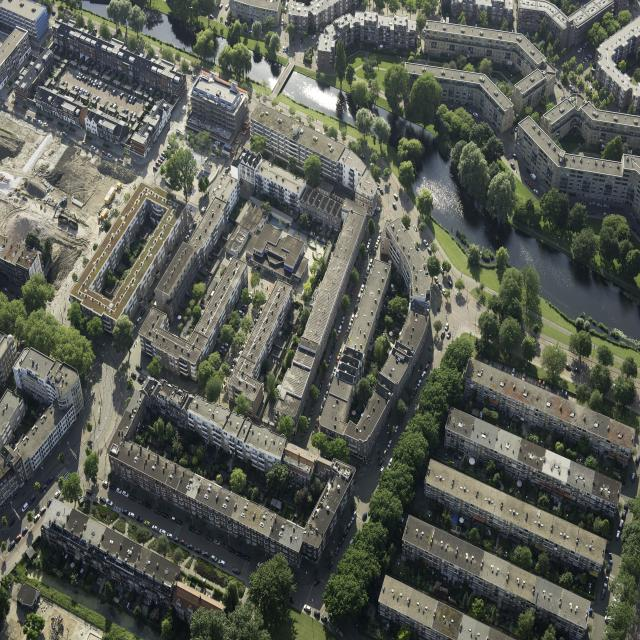large-vehicle: (180, 104, 187, 114)
small-vehicle: (604, 613, 616, 626), (7, 540, 16, 551), (395, 514, 404, 524), (584, 605, 593, 615), (610, 602, 620, 611), (21, 502, 29, 513), (28, 494, 36, 505), (242, 553, 251, 562), (303, 604, 312, 613), (39, 483, 47, 493), (46, 475, 54, 485), (336, 628, 344, 638), (601, 544, 609, 554), (582, 40, 590, 50), (618, 518, 624, 531), (348, 538, 355, 549), (412, 406, 419, 417), (387, 457, 394, 468), (159, 528, 167, 537), (108, 483, 117, 491), (106, 498, 114, 507), (218, 559, 226, 568), (227, 546, 236, 554), (257, 561, 265, 570), (313, 578, 321, 587), (313, 609, 321, 618), (320, 614, 328, 623), (603, 576, 609, 588), (600, 588, 606, 600), (612, 597, 620, 606), (615, 529, 621, 541), (623, 499, 629, 511), (15, 533, 22, 543), (351, 511, 358, 521), (338, 537, 345, 547), (361, 511, 368, 521), (412, 386, 419, 396), (382, 447, 389, 457), (420, 370, 427, 380), (521, 371, 527, 382), (621, 509, 627, 520), (232, 567, 240, 575), (166, 532, 174, 540), (122, 490, 130, 498), (129, 494, 137, 502), (99, 496, 107, 504), (121, 508, 129, 516), (128, 511, 136, 519), (161, 511, 169, 519), (153, 507, 161, 515), (144, 502, 152, 510), (233, 357, 241, 365), (218, 349, 226, 357), (194, 546, 202, 554), (202, 550, 210, 558), (323, 454, 331, 462), (287, 596, 295, 604), (509, 162, 517, 170), (573, 366, 581, 374), (54, 489, 61, 498), (47, 497, 54, 506), (8, 518, 15, 527), (21, 526, 28, 535), (33, 513, 40, 522), (140, 307, 147, 316), (629, 212, 636, 221), (438, 265, 445, 274), (441, 288, 448, 297), (342, 529, 349, 538), (530, 172, 537, 181), (630, 224, 637, 233), (321, 397, 327, 407), (347, 520, 353, 530), (329, 373, 335, 383), (408, 395, 414, 405), (387, 439, 393, 449), (378, 457, 384, 467), (440, 330, 446, 340), (630, 472, 636, 482), (86, 488, 93, 496), (137, 498, 144, 506), (136, 515, 143, 523), (144, 519, 151, 527), (169, 515, 176, 523), (211, 555, 218, 563), (236, 315, 243, 323), (206, 534, 213, 542), (195, 528, 202, 536), (238, 309, 245, 317), (220, 345, 227, 353), (188, 525, 195, 533), (186, 543, 194, 550), (236, 550, 243, 558), (180, 539, 188, 546), (369, 162, 376, 170), (472, 111, 479, 119), (491, 129, 498, 137), (525, 167, 532, 175), (573, 89, 580, 97), (608, 553, 613, 564), (511, 367, 516, 378), (563, 390, 568, 401), (40, 505, 46, 514), (337, 325, 343, 334), (327, 561, 333, 570), (416, 379, 422, 388), (314, 419, 320, 428), (326, 383, 332, 392), (334, 547, 340, 556), (433, 275, 439, 284), (446, 330, 452, 339), (401, 409, 407, 418), (404, 425, 410, 434), (379, 466, 385, 475), (375, 181, 381, 190), (320, 376, 326, 385), (324, 363, 330, 372), (499, 363, 504, 373), (541, 380, 546, 390), (606, 564, 611, 574), (552, 386, 557, 396), (611, 382, 616, 392), (152, 525, 159, 532), (135, 364, 142, 371), (137, 376, 144, 383), (149, 372, 156, 379), (102, 480, 109, 487), (173, 536, 180, 543), (117, 157, 124, 164), (176, 519, 183, 526), (246, 294, 253, 301), (214, 539, 221, 546), (241, 303, 248, 310), (222, 342, 229, 349), (221, 542, 228, 549), (330, 457, 337, 464), (471, 120, 478, 127), (509, 129, 516, 136), (511, 152, 518, 159), (565, 363, 572, 370), (552, 348, 559, 355), (92, 79, 98, 87), (97, 81, 103, 89), (148, 295, 154, 303), (131, 96, 137, 104), (116, 487, 122, 495), (136, 316, 142, 324), (153, 300, 159, 308), (102, 84, 108, 92), (131, 324, 137, 332), (184, 234, 190, 242), (200, 206, 206, 214), (224, 166, 230, 174), (398, 417, 404, 425), (327, 355, 333, 363), (437, 282, 443, 290), (447, 279, 453, 287), (91, 473, 97, 481), (424, 363, 430, 371), (487, 124, 493, 132), (533, 188, 539, 196), (427, 246, 433, 254), (552, 77, 558, 85), (423, 239, 429, 247), (392, 202, 398, 210), (568, 84, 574, 92), (635, 454, 640, 463), (350, 287, 355, 296), (353, 304, 358, 313), (309, 407, 314, 416), (347, 296, 352, 305), (319, 406, 324, 415), (324, 390, 329, 399), (314, 393, 319, 402), (311, 430, 316, 439), (365, 266, 370, 275), (368, 258, 373, 267), (444, 322, 449, 331), (394, 425, 399, 434), (428, 355, 433, 364), (368, 247, 373, 256), (365, 244, 370, 253), (488, 359, 493, 368), (317, 384, 322, 393), (78, 87, 84, 94), (2, 287, 9, 293), (21, 339, 27, 346), (16, 351, 23, 357), (131, 372, 137, 379), (159, 377, 165, 384), (126, 162, 133, 168), (161, 151, 167, 158), (187, 67, 193, 74), (248, 290, 254, 297), (230, 328, 236, 335), (228, 368, 235, 374), (240, 306, 246, 313), (228, 332, 234, 339), (212, 363, 218, 370), (530, 338, 537, 344), (420, 254, 426, 261), (287, 577, 293, 584), (360, 153, 366, 160), (460, 106, 467, 112), (537, 109, 543, 116), (483, 120, 489, 127), (514, 125, 520, 132), (537, 120, 543, 127), (524, 178, 530, 185), (528, 183, 534, 190), (542, 105, 548, 112), (585, 55, 591, 62), (587, 53, 593, 60), (393, 193, 399, 200), (557, 82, 563, 89), (589, 201, 596, 207), (577, 47, 583, 54), (596, 202, 603, 208), (603, 203, 610, 209), (581, 208, 588, 214), (610, 213, 617, 219), (338, 348, 343, 356), (360, 284, 365, 292), (356, 294, 361, 302), (350, 314, 355, 322), (347, 322, 352, 330), (345, 329, 350, 337), (336, 356, 341, 364), (335, 333, 340, 341), (379, 187, 384, 195), (332, 367, 337, 375), (376, 235, 381, 243), (374, 241, 379, 249), (372, 248, 377, 256), (367, 238, 372, 246), (378, 229, 383, 237), (538, 379, 542, 389), (560, 389, 564, 399), (549, 384, 553, 394), (75, 87, 81, 93), (37, 119, 43, 125), (43, 122, 49, 128), (60, 80, 66, 86), (15, 294, 21, 300), (81, 140, 87, 146), (62, 131, 68, 137), (101, 150, 107, 156), (155, 161, 161, 167), (157, 158, 163, 164), (159, 155, 165, 161), (234, 319, 240, 325), (260, 305, 266, 311), (245, 298, 251, 304), (241, 344, 247, 350), (231, 364, 237, 370), (299, 120, 305, 126), (315, 128, 321, 134), (322, 132, 328, 138), (3, 103, 9, 109), (467, 109, 473, 115), (478, 353, 482, 362), (583, 57, 589, 63), (589, 52, 595, 58), (548, 101, 554, 107), (617, 206, 623, 212), (603, 212, 609, 218), (76, 72, 81, 79), (79, 73, 84, 80), (87, 78, 92, 85), (126, 95, 131, 102), (129, 96, 134, 103), (124, 108, 129, 115), (129, 111, 134, 118), (152, 289, 157, 296), (153, 165, 158, 172), (233, 322, 238, 329), (224, 3, 229, 10), (217, 355, 222, 362), (90, 78, 95, 85), (579, 200, 586, 205), (610, 205, 617, 210), (565, 206, 572, 211), (341, 316, 345, 324), (345, 304, 349, 312), (331, 345, 335, 353), (359, 262, 363, 270), (307, 417, 311, 425), (304, 425, 308, 433), (363, 276, 367, 284), (33, 117, 38, 123), (71, 85, 76, 91), (86, 91, 91, 97), (83, 76, 88, 82), (95, 81, 100, 87), (95, 96, 100, 102), (109, 102, 114, 108), (112, 103, 117, 109), (121, 108, 127, 113), (132, 112, 137, 118), (136, 45, 141, 51), (166, 144, 172, 149), (169, 140, 174, 146), (189, 6, 195, 11), (192, 74, 198, 79), (218, 3, 223, 9), (255, 315, 261, 320), (254, 318, 259, 324), (251, 324, 257, 329), (238, 351, 244, 356), (213, 187, 218, 193), (188, 229, 193, 235), (192, 222, 197, 228), (321, 29, 326, 35), (315, 40, 320, 46), (437, 366, 442, 372), (312, 34, 317, 40), (589, 210, 595, 215), (8, 381, 12, 388), (423, 27, 427, 34), (357, 269, 361, 276), (83, 24, 88, 29), (27, 114, 32, 119), (51, 10, 56, 15), (92, 95, 97, 100), (93, 28, 98, 33), (111, 35, 116, 40), (154, 54, 159, 59), (112, 89, 117, 94), (107, 153, 112, 158), (225, 20, 230, 25), (163, 149, 168, 154), (244, 28, 249, 33), (238, 19, 243, 24), (209, 14, 214, 19), (263, 298, 268, 303), (249, 30, 254, 35), (258, 311, 263, 316), (249, 327, 254, 332), (201, 10, 206, 15), (243, 341, 248, 346), (287, 114, 292, 119), (293, 117, 298, 122), (64, 81, 68, 87), (84, 90, 88, 96), (120, 92, 124, 98), (276, 109, 282, 113), (281, 19, 285, 25), (74, 86, 78, 91), (81, 90, 85, 95), (82, 75, 86, 80), (127, 43, 132, 47), (244, 22, 249, 26), (195, 8, 199, 13), (425, 263, 429, 268), (91, 145, 95, 150), (285, 47, 288, 53), (256, 288, 259, 294), (282, 46, 285, 52), (276, 44, 279, 50), (475, 23, 478, 29), (511, 29, 514, 35), (449, 105, 453, 109), (300, 38, 303, 43), (284, 8, 287, 13), (285, 2, 288, 7), (292, 37, 295, 41), (469, 24, 471, 29), (487, 26, 489, 31), (457, 23, 459, 27), (499, 29, 501, 33)
